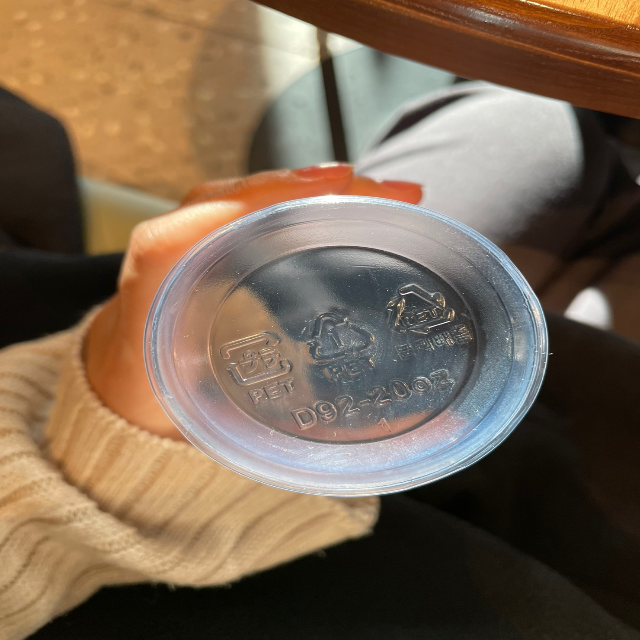pet: (384, 280, 479, 364), (209, 327, 305, 404), (304, 305, 389, 388)
